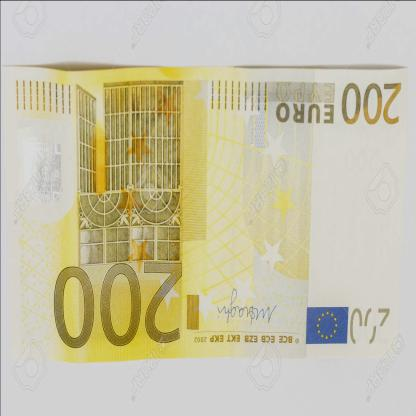euro_banknote: (3, 65, 415, 364)
